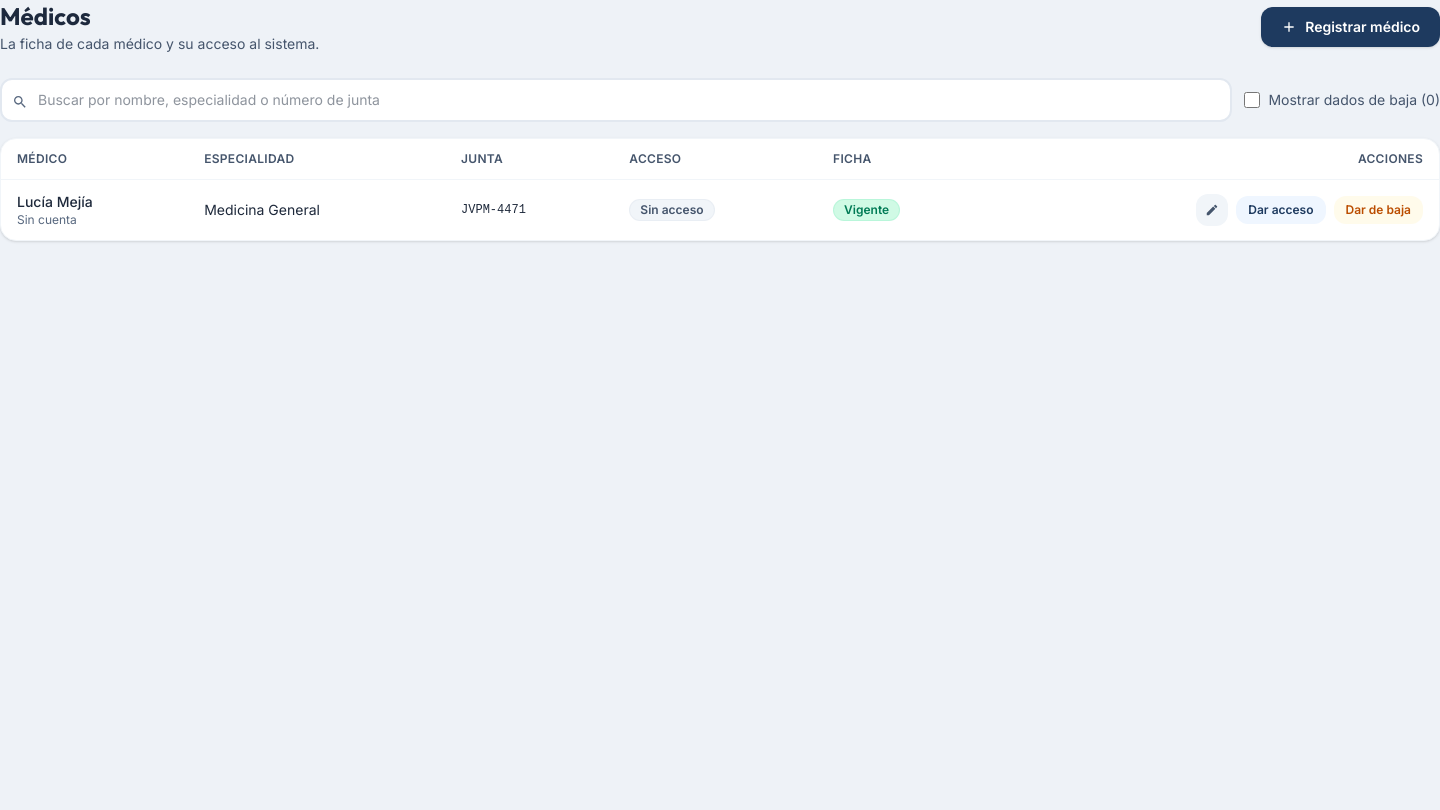
Test case: médicos · el acceso › a una ficha sin cuenta le pide correo y sede, y avisa que salió la invitación
Check: the text "Lucía Mejía" is shown, box x1=17 y1=193 x2=93 y2=210
Click the button with aria-label "dar acceso: lucía mejía". click: (1281, 210)
box: x1=1236 y1=196 x2=1326 y2=224
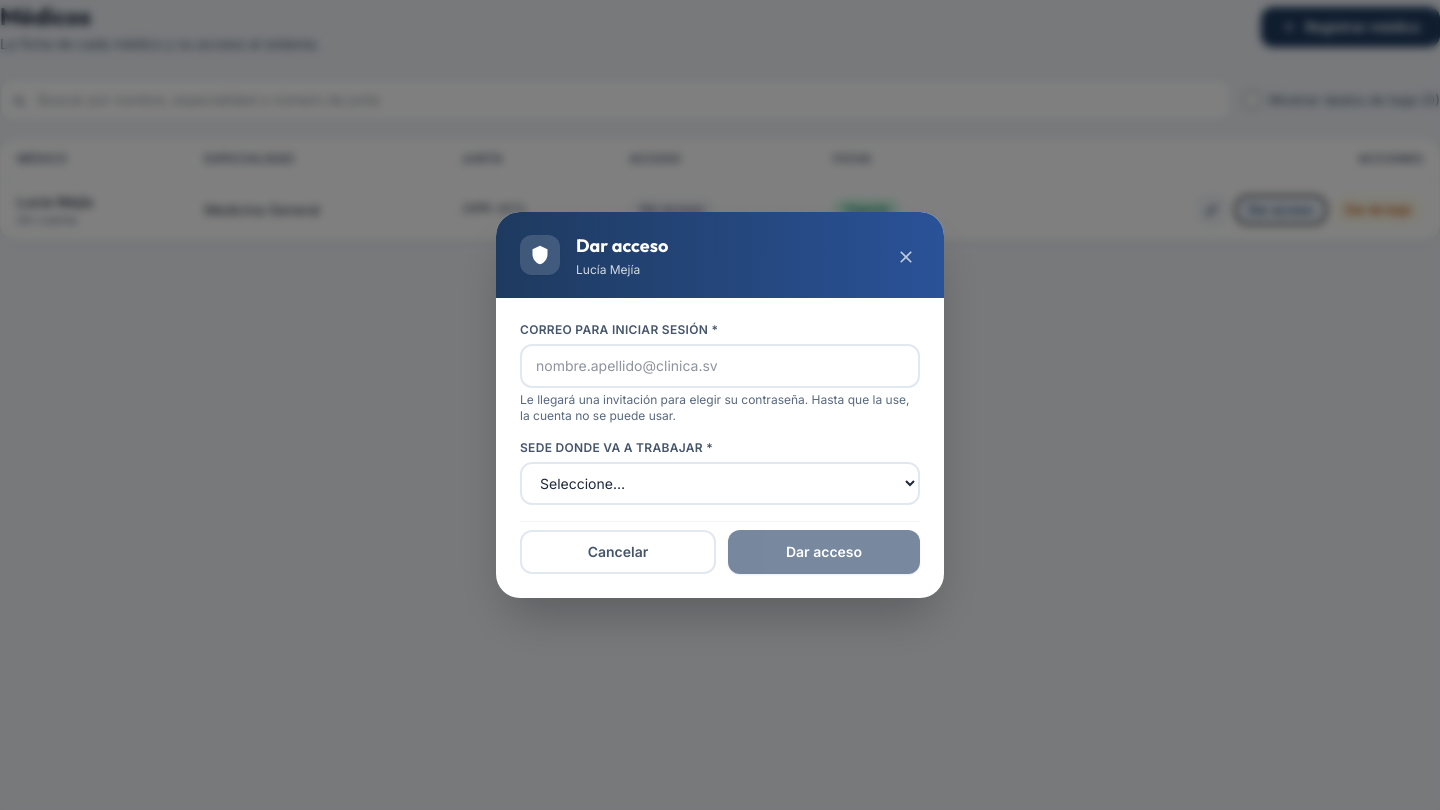
Check: the button "Dar acceso" is disabled, box x1=728 y1=530 x2=920 y2=574
Type "lucia@docrecord.sv" into the field labelled "Correo para iniciar sesión *". click: (720, 366)
box: x1=520 y1=344 x2=920 y2=388
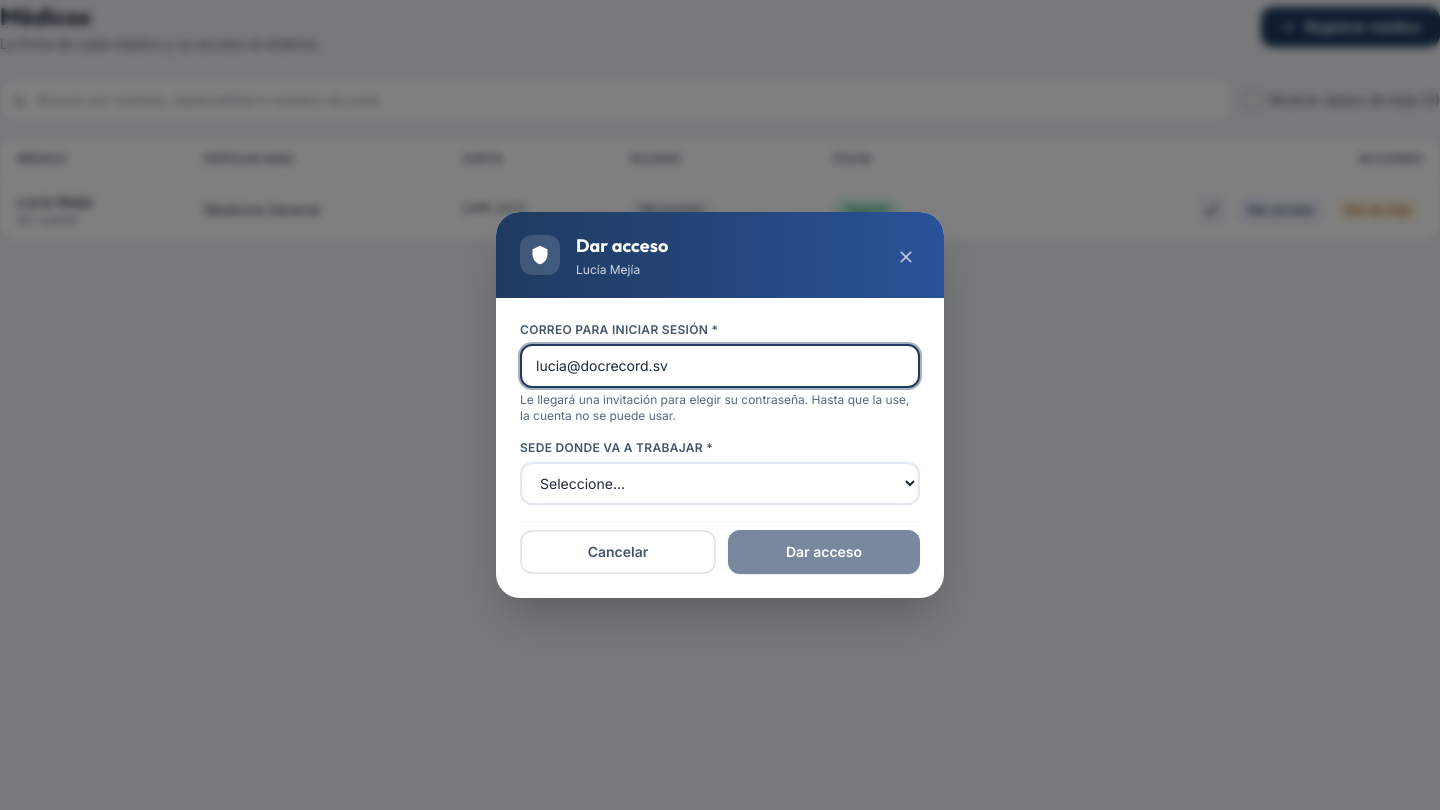
Check: the button "Dar acceso" is disabled, box x1=728 y1=530 x2=920 y2=574
Select "Unidad de Salud Escalón" in the dropdown labelled "Sede donde va a trabajar *". click: (720, 484)
box: x1=520 y1=462 x2=920 y2=505
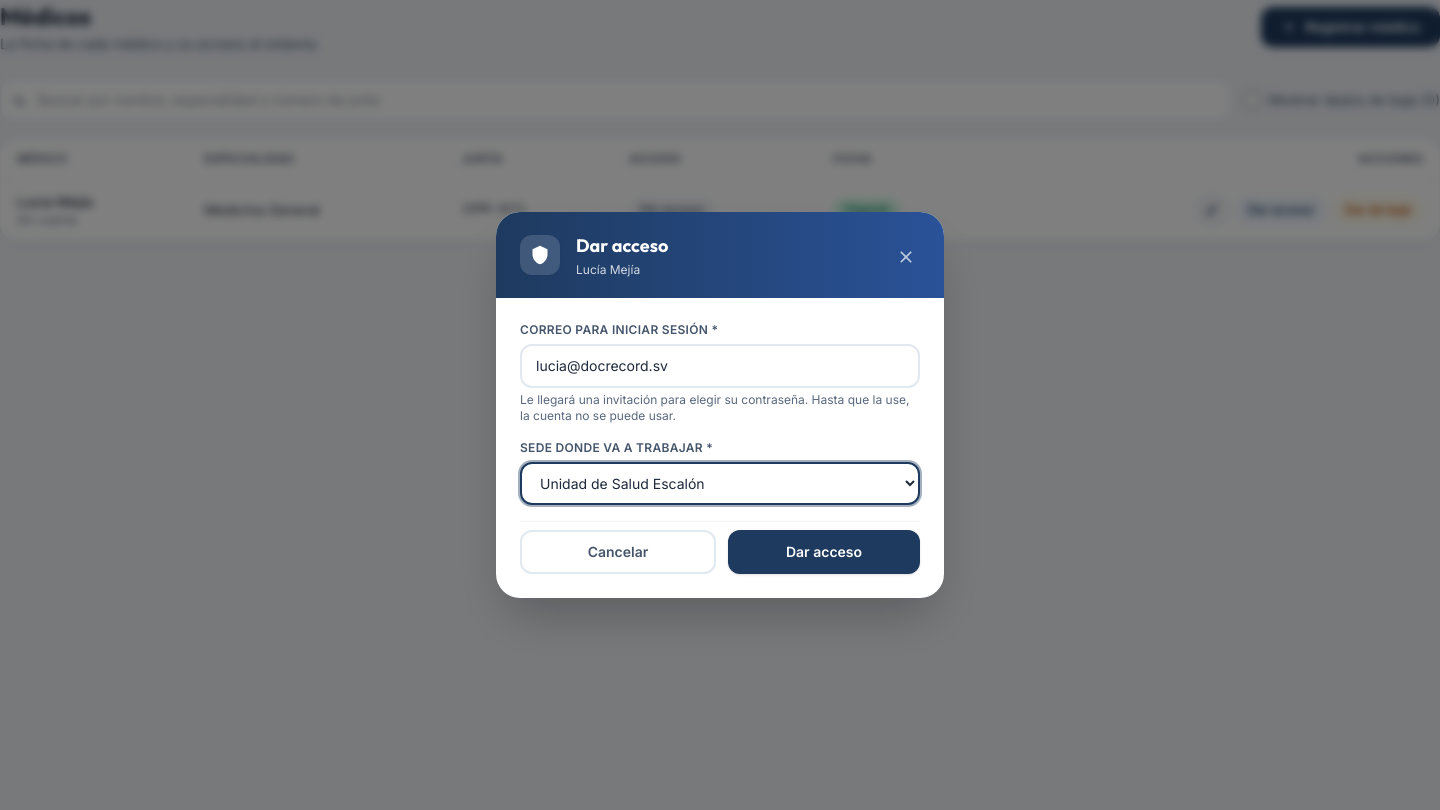
Click the button "Dar acceso". click: (824, 552)
box: x1=728 y1=530 x2=920 y2=574
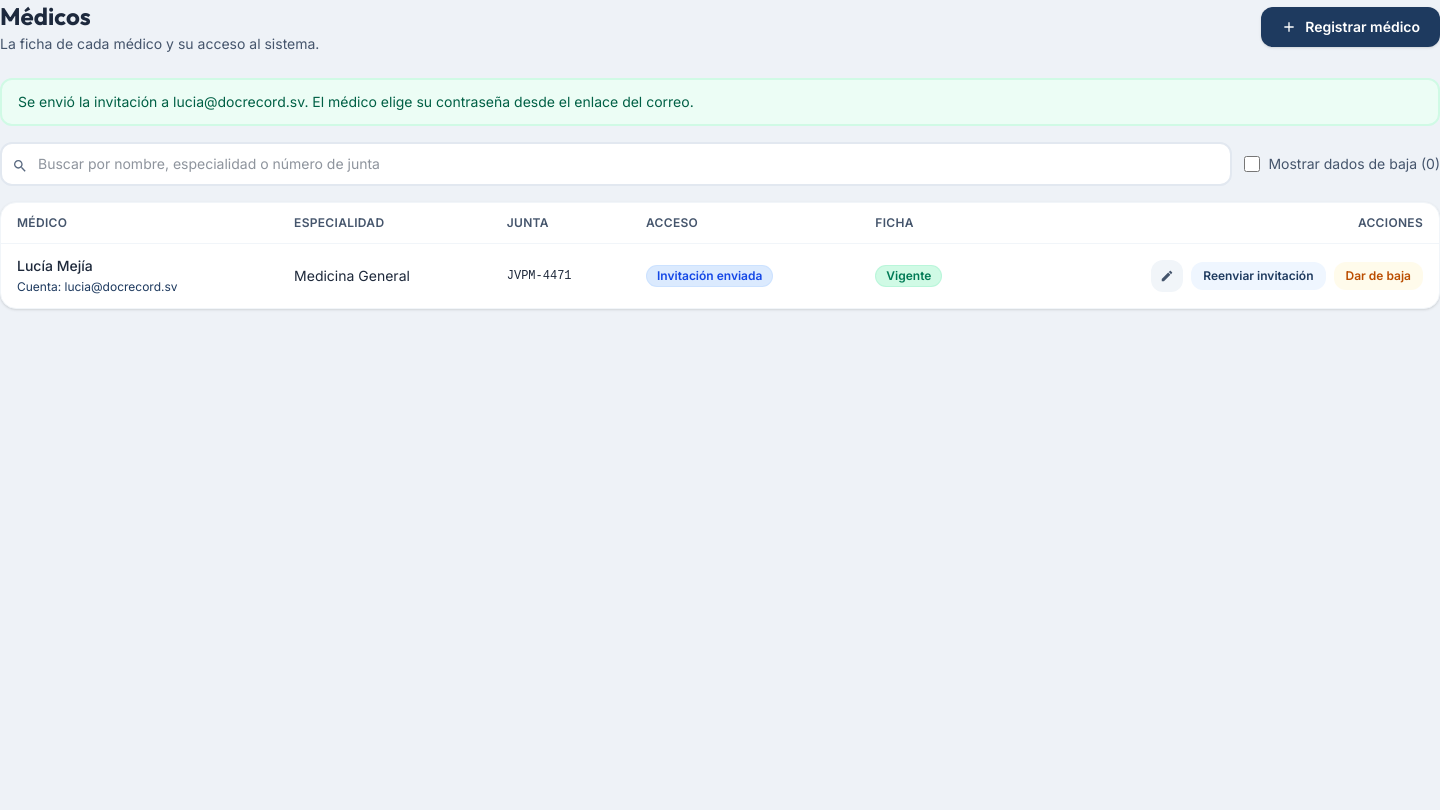
Check: the message shows "Se envió la invitación a lucia@docrecord.sv", box x1=18 y1=93 x2=694 y2=110
Check: the text "Invitación enviada" is shown, box x1=646 y1=265 x2=773 y2=287
